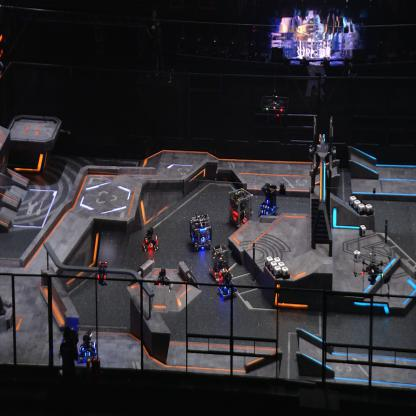car: (227, 188, 252, 228), (190, 210, 210, 251), (209, 244, 231, 281), (58, 316, 79, 353), (258, 182, 279, 218), (78, 330, 99, 361), (218, 270, 238, 298), (152, 265, 170, 293), (142, 224, 158, 251)
